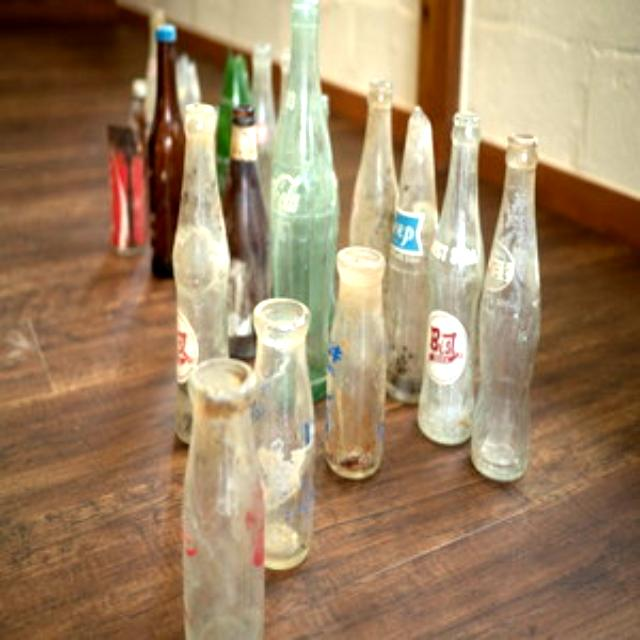Glass: (176, 361, 262, 639), (272, 1, 334, 382), (478, 135, 544, 488), (417, 116, 473, 448), (322, 244, 392, 480), (253, 298, 309, 570), (174, 99, 230, 368), (230, 101, 274, 356), (146, 21, 182, 279)
